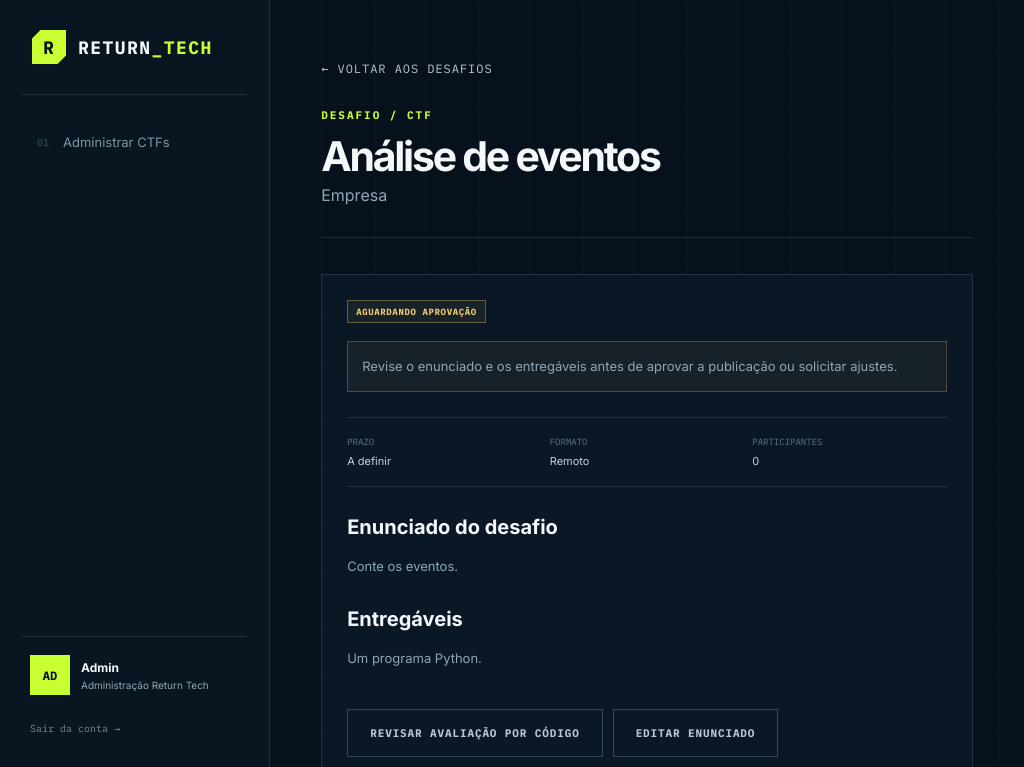
Scenario: integration with existing project flows › preserves the administration route, private code review and approval with revision
Later steps or results of the test are not shown.
Click the button "REVISAR AVALIAÇÃO POR CÓDIGO" at (475, 733), box [347, 709, 603, 757]
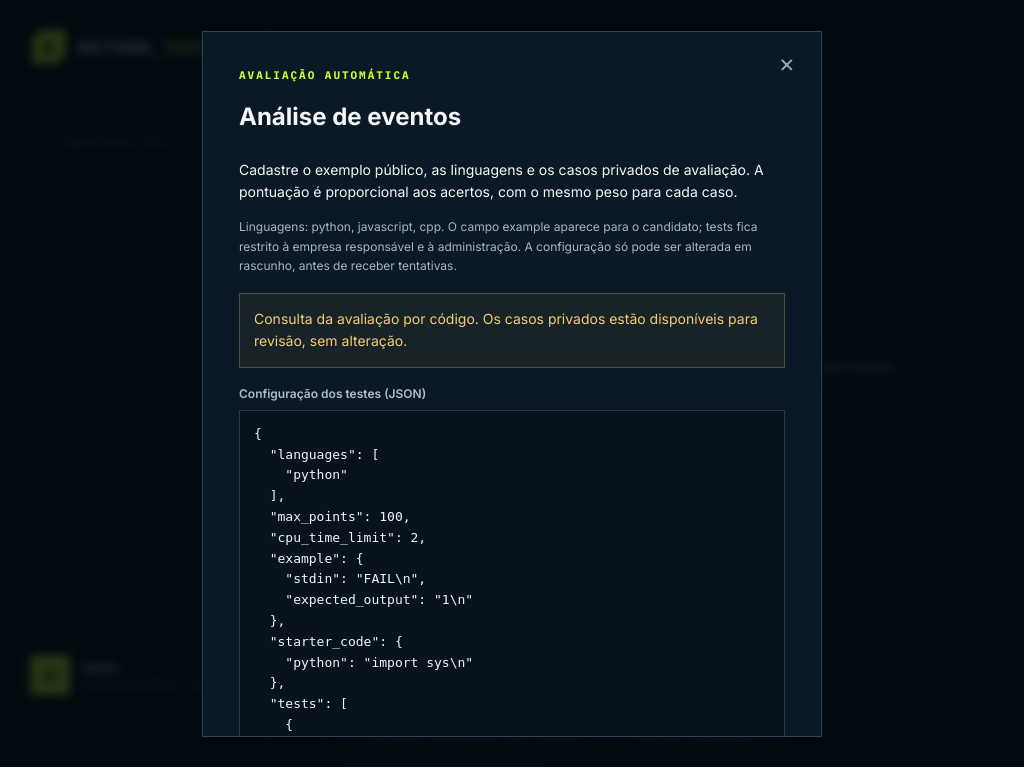
Click the button named "Fechar configuração" at (787, 63), box [772, 47, 801, 79]
(page scrolled)
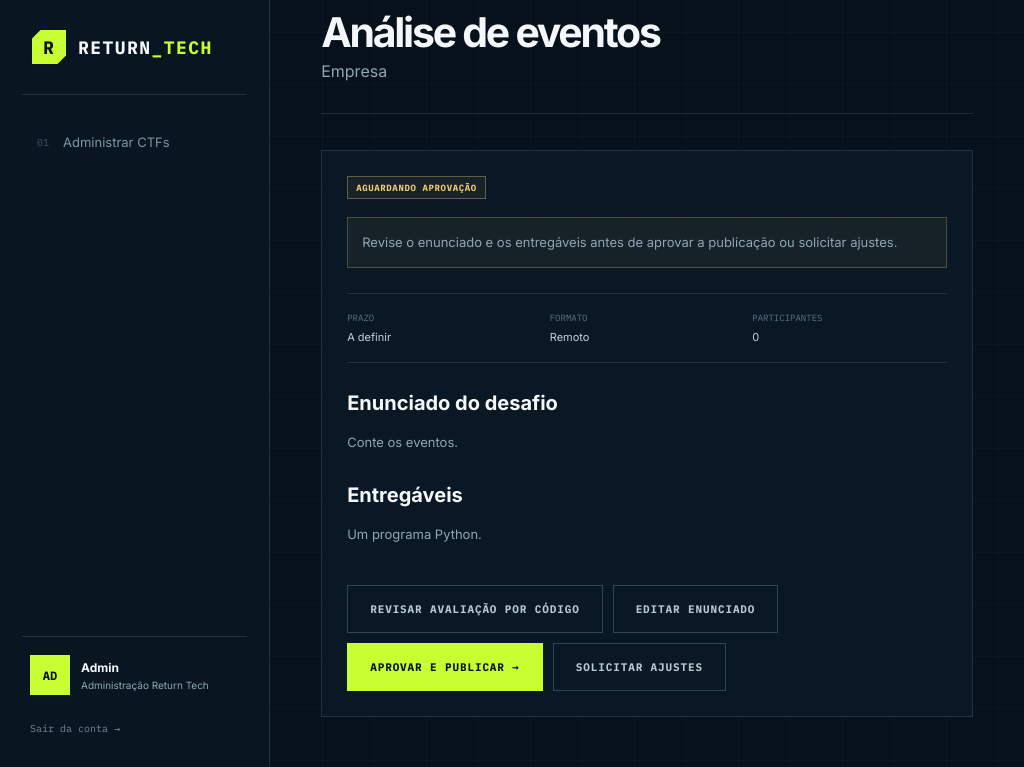
Click the button "APROVAR E PUBLICAR →" at (445, 667), box [347, 643, 543, 691]
(page scrolled)
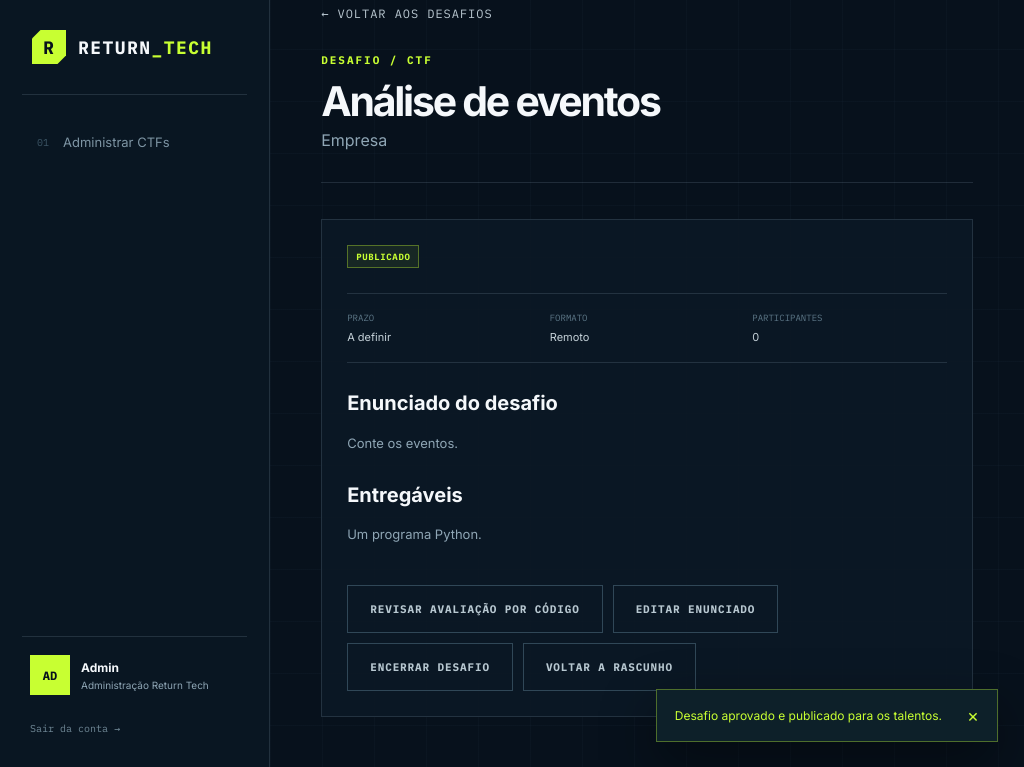
Check: the text "Desafio aprovado e publicado para os talentos." is shown, box [675, 708, 942, 723]
